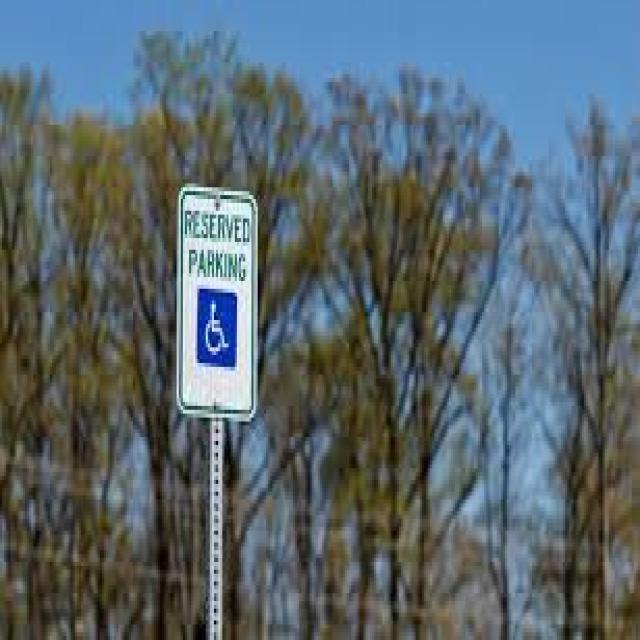symbol_of_access: (202, 300, 230, 357)
